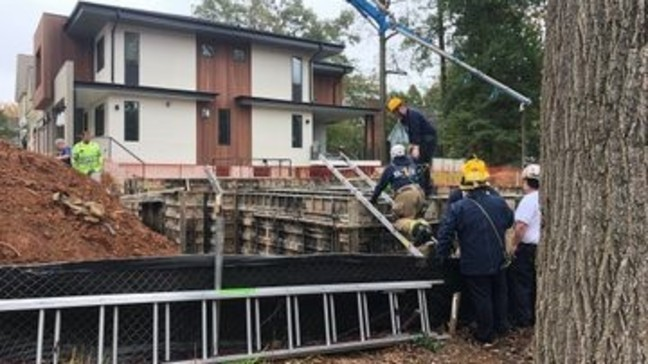hard hat: (461, 157, 490, 181), (522, 162, 540, 178), (390, 145, 408, 159), (386, 99, 404, 110)
high-vis: (70, 141, 103, 171)
